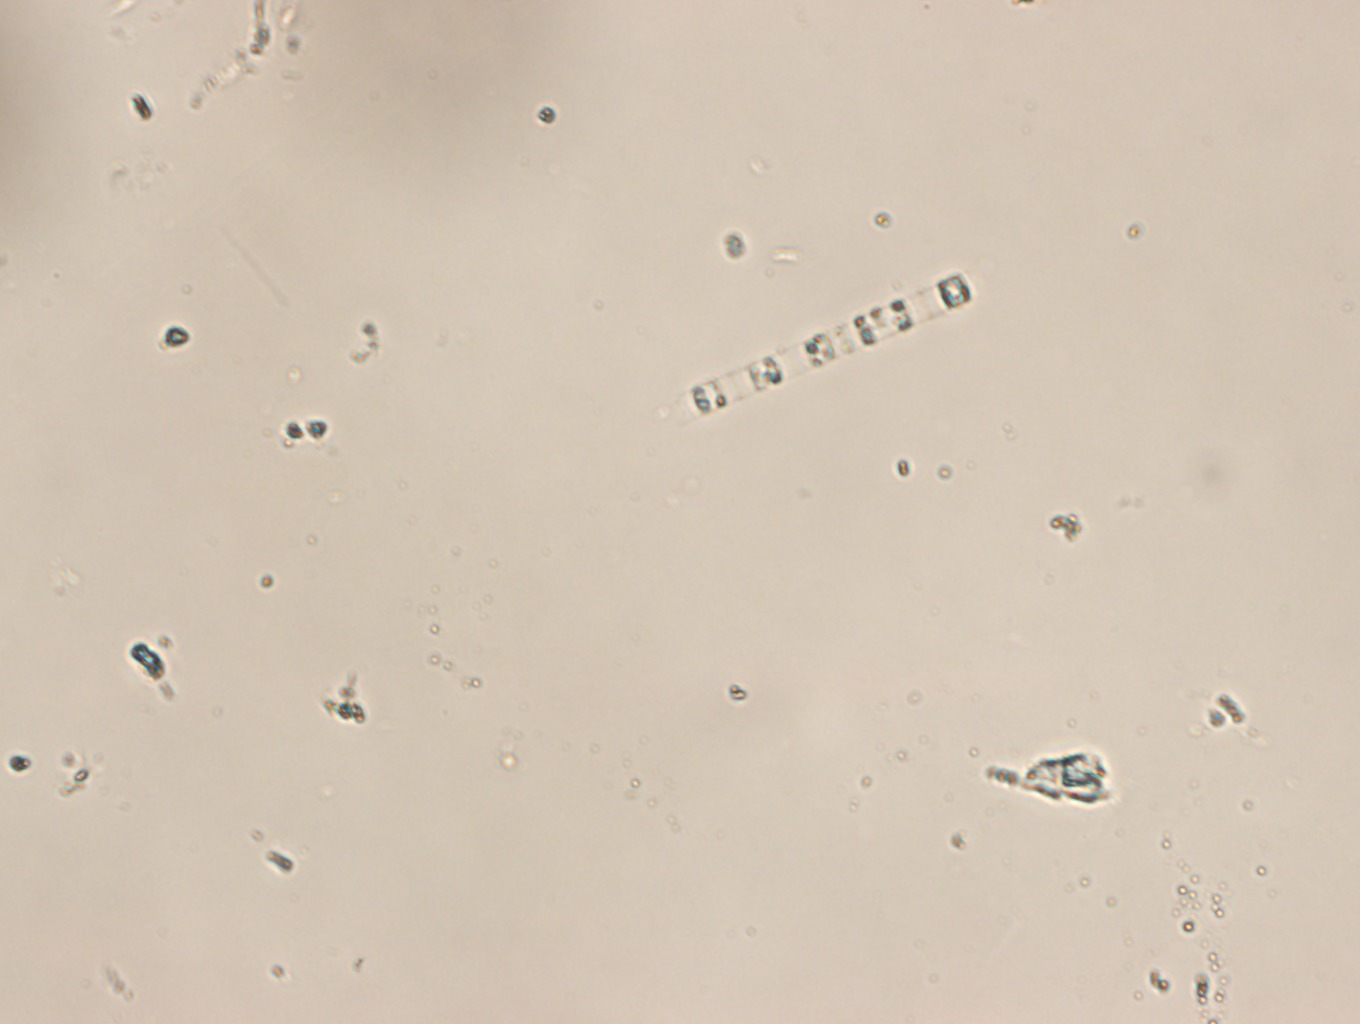skeletonema: (672, 269, 984, 426)
